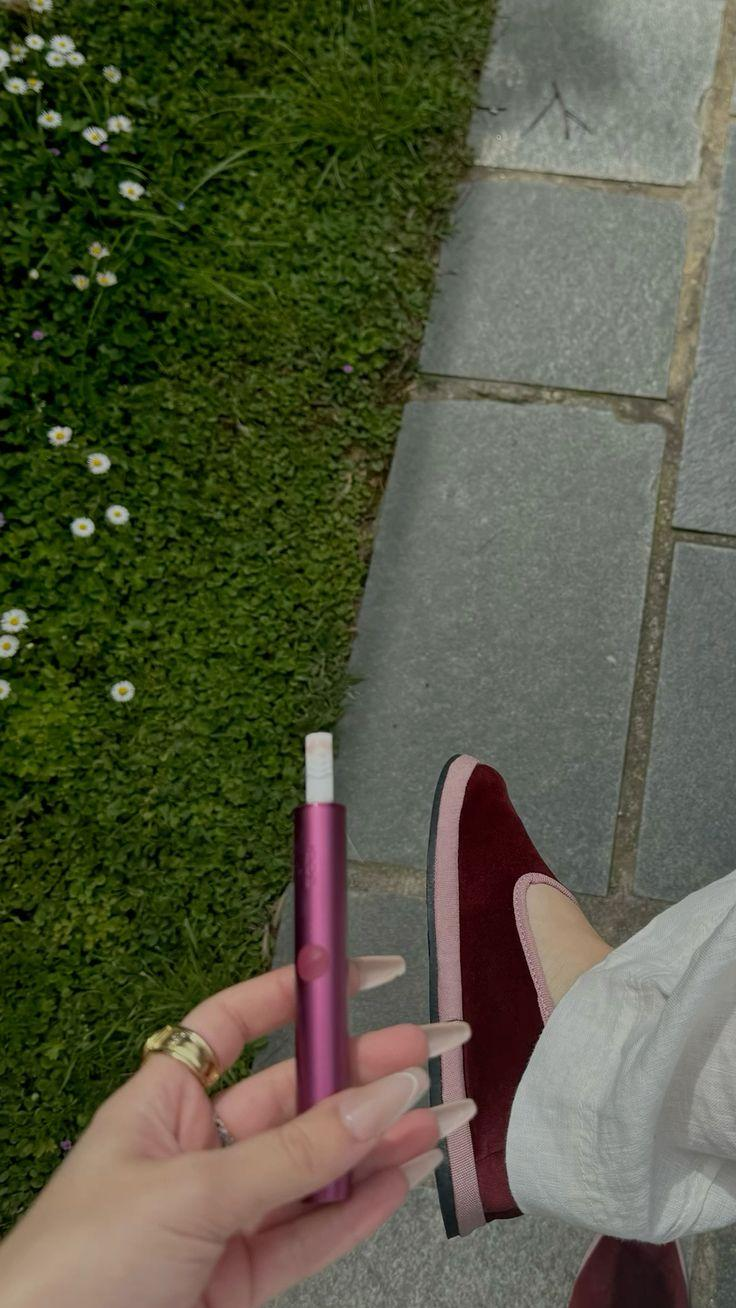iqos: (294, 732, 349, 1112)
